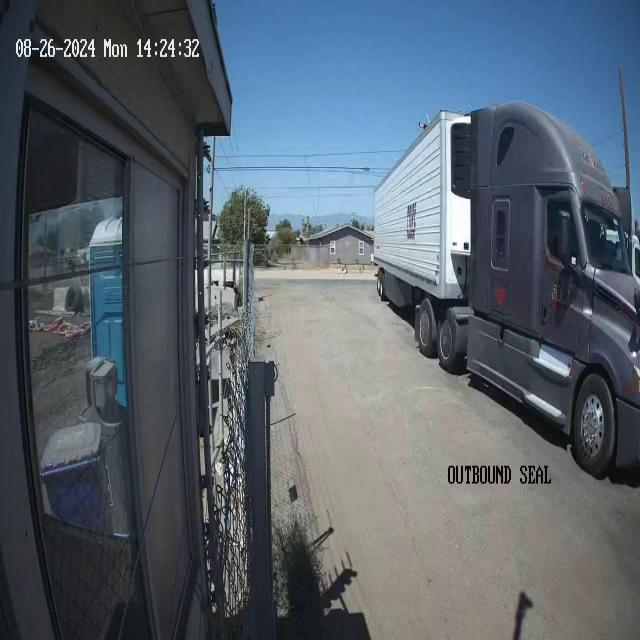TRUCK_CONTAINER: (372, 101, 640, 482)
